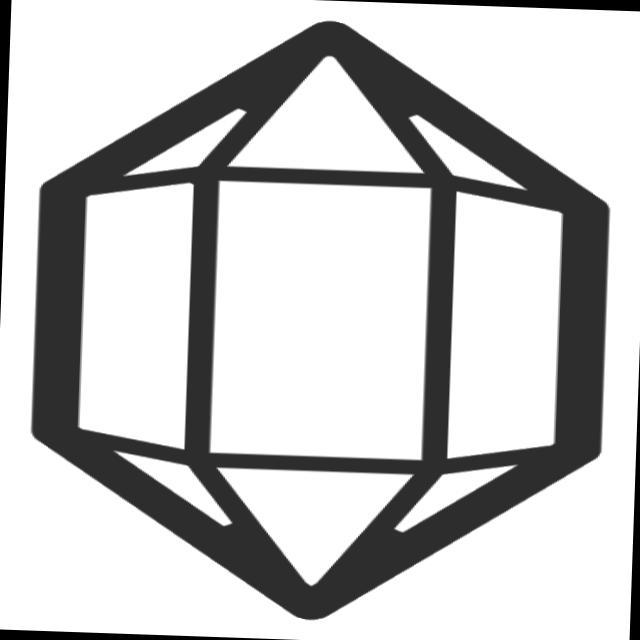crystal: (8, 4, 631, 640)
